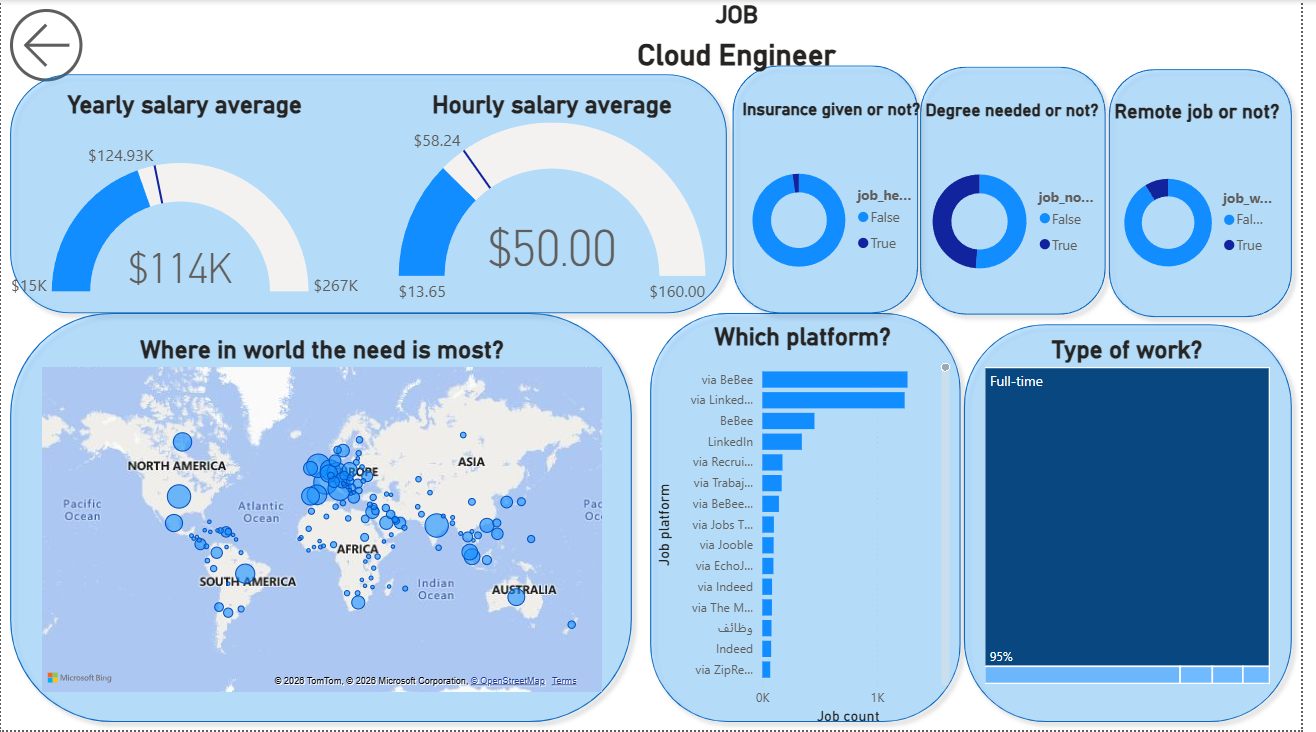

The dashboard page shown, as its layout file describes it:
{"tool":"powerbi","page":{"name":"Job drill through","canvas":[1280,720],"ordinal":1},"visuals":[{"type":"shape","box":[0,0,1280,720.7],"z":1000},{"type":"shape","box":[630.2,299.1,323.7,420.9],"z":2000},{"type":"actionButton","box":[0,0,147.5,89],"z":3000},{"type":"shape","box":[0,64,723.7,253.5],"z":4000},{"type":"shape","box":[896,56.6,200.6,262.2],"z":5000},{"type":"shape","box":[939.1,310.2,340.9,409.8],"z":6000},{"type":"shape","box":[1081.8,59.1,198.2,262.2],"z":7000},{"type":"shape","box":[711.4,55.4,200.6,262.2],"z":8000},{"type":"shape","box":[0,299.1,630.2,420.9],"z":9000},{"type":"card","title":"JOB ","fields":{"Values":["Min(job_postings_flat.job_title_short)"]},"box":[562.1,0,324.2,76.5],"z":9500},{"type":"gauge","title":"Yearly salary average","fields":{"Y":["Median(job_postings_flat.salary_year_avg)"],"MinValue":["Min(job_postings_flat.salary_year_avg)1"],"MaxValue":["Max(job_postings_flat.salary_year_avg)2"],"TargetValue":["Avg(job_postings_flat.salary_year_avg)3"]},"box":[0,89,361.7,219.8],"z":10000},{"type":"gauge","title":"Hourly salary average","fields":{"Y":["Median(job_postings_flat.salary_hour_avg)"],"MinValue":["Min(job_postings_flat.salary_hour_avg)1"],"MaxValue":["Max(job_postings_flat.salary_hour_avg)2"],"TargetValue":["Avg(job_postings_flat.salary_hour_avg)3"]},"box":[361.7,89,361.7,219.8],"z":11000},{"type":"donutChart","title":"Insurance given or not?","fields":{"Category":["job_postings_flat.job_health_insurance"],"Y":["CountNonNull(job_postings_flat.job_health_insurance)"]},"box":[723.7,97.2,188.3,220.3],"z":12000},{"type":"donutChart","title":"Degree needed or not?","fields":{"Category":["job_postings_flat.job_no_degree_mention"],"Y":["CountNonNull(job_postings_flat.job_no_degree_mention)"]},"box":[900.9,98.5,189.5,220.3],"z":13000},{"type":"donutChart","title":"Remote job or not?","fields":{"Category":["job_postings_flat.job_work_from_home"],"Y":["CountNonNull(job_postings_flat.job_work_from_home)"]},"box":[1090.5,98.5,174.8,220.3],"z":14000},{"type":"map","title":"Where in world the need is most?","fields":{"Category":["job_postings_flat.job_country"],"Size":["CountNonNull(job_postings_flat.job_title_short)"]},"box":[35.7,329.8,561.2,356.9],"z":15000},{"type":"treemap","title":"Type of work?","fields":{"Group":["job_postings_flat.job_schedule_type"],"Values":["CountNonNull(job_postings_flat.job_schedule_type)"]},"box":[963.7,329.8,290.5,348.3],"z":16000},{"type":"barChart","title":"Which platform?","fields":{"Category":["job_postings_flat.job_via"],"Y":["CountNonNull(job_postings_flat.job_title_short)"]},"box":[640,317.5,299.1,401.2],"z":17000}]}

Visuals, with their boxes in screenshot pixels (x1, y1, x2, y2), scaled from the page's 1280x720 canvas onto the 1316x732 screenshot:
shape: (0,0,1315,731)
shape: (648,304,981,731)
actionButton: (0,0,152,90)
shape: (0,65,744,323)
shape: (921,58,1127,324)
shape: (966,315,1315,731)
shape: (1112,60,1315,327)
shape: (731,56,938,323)
shape: (0,304,648,731)
"JOB " card: (578,0,911,78)
"Yearly salary average" gauge: (0,90,372,314)
"Hourly salary average" gauge: (372,90,744,314)
"Insurance given or not?" donutChart: (744,99,938,323)
"Degree needed or not?" donutChart: (926,100,1121,324)
"Remote job or not?" donutChart: (1121,100,1301,324)
"Where in world the need is most?" map: (37,335,614,698)
"Type of work?" treemap: (991,335,1289,689)
"Which platform?" barChart: (658,323,966,731)
